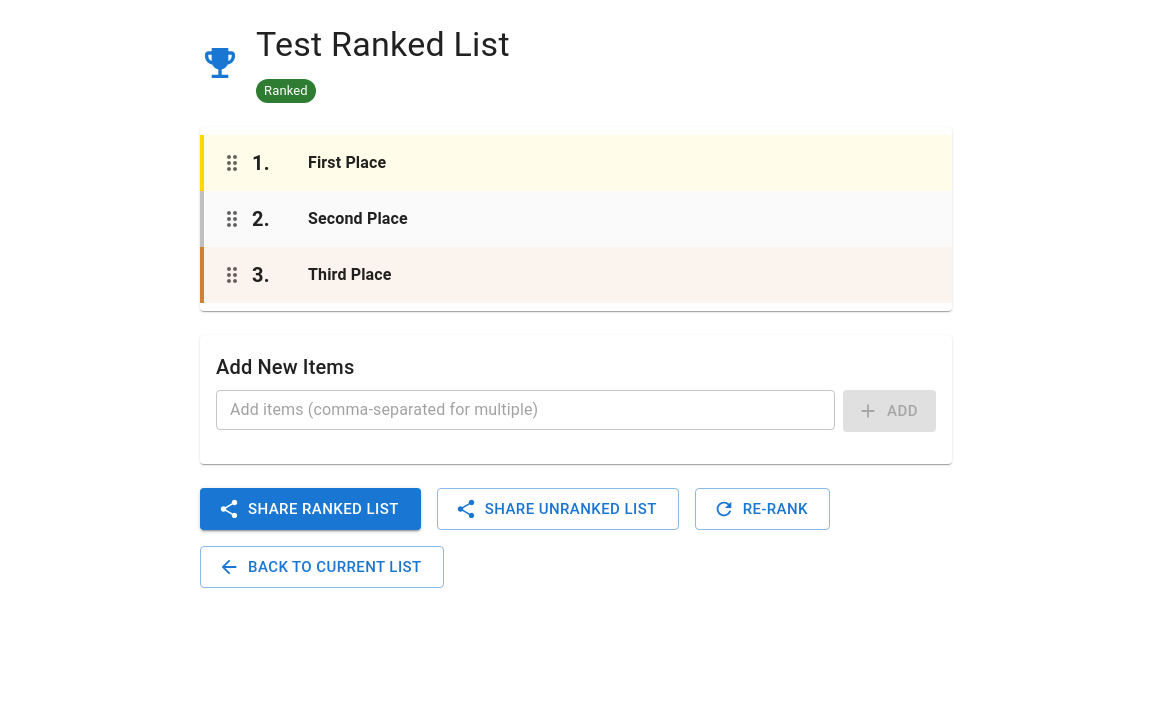
Scenario: RankedResultView › Action Buttons › displays ranked URL in share dialog
Click the button "Share Ranked List" at [310, 509], box [200,488,421,530]
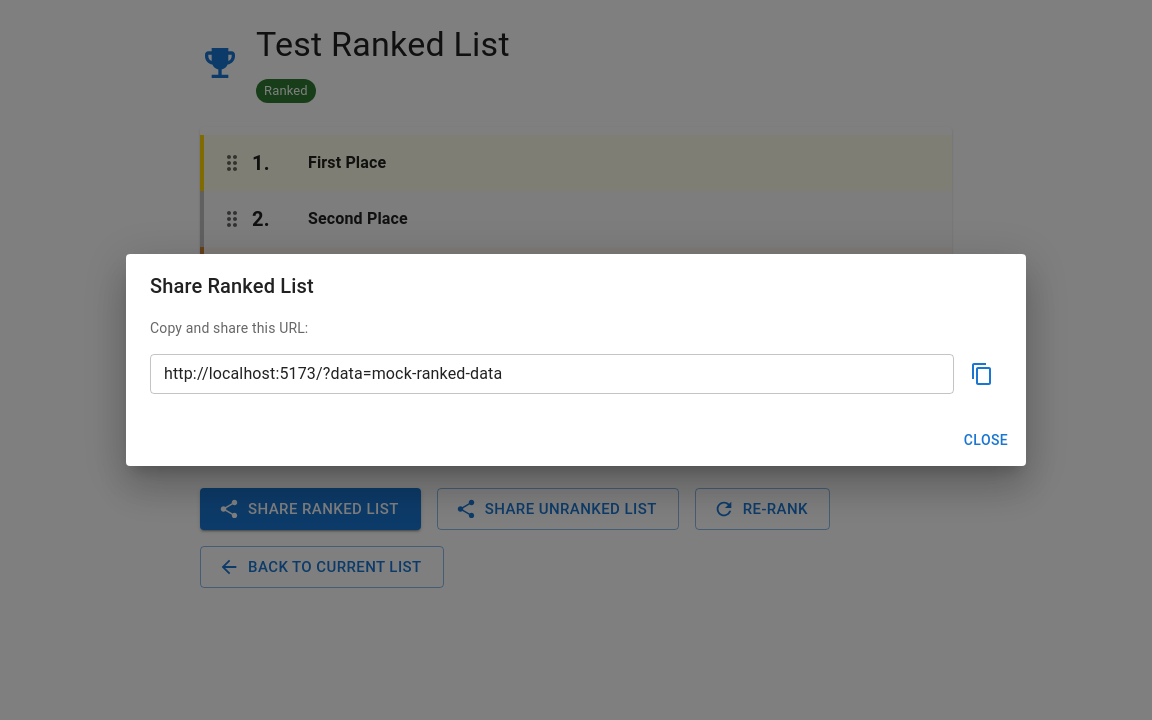
Check: the text box "http://localhost:5173/?data=mock-ranked-data" is shown, box [164,362,940,385]
